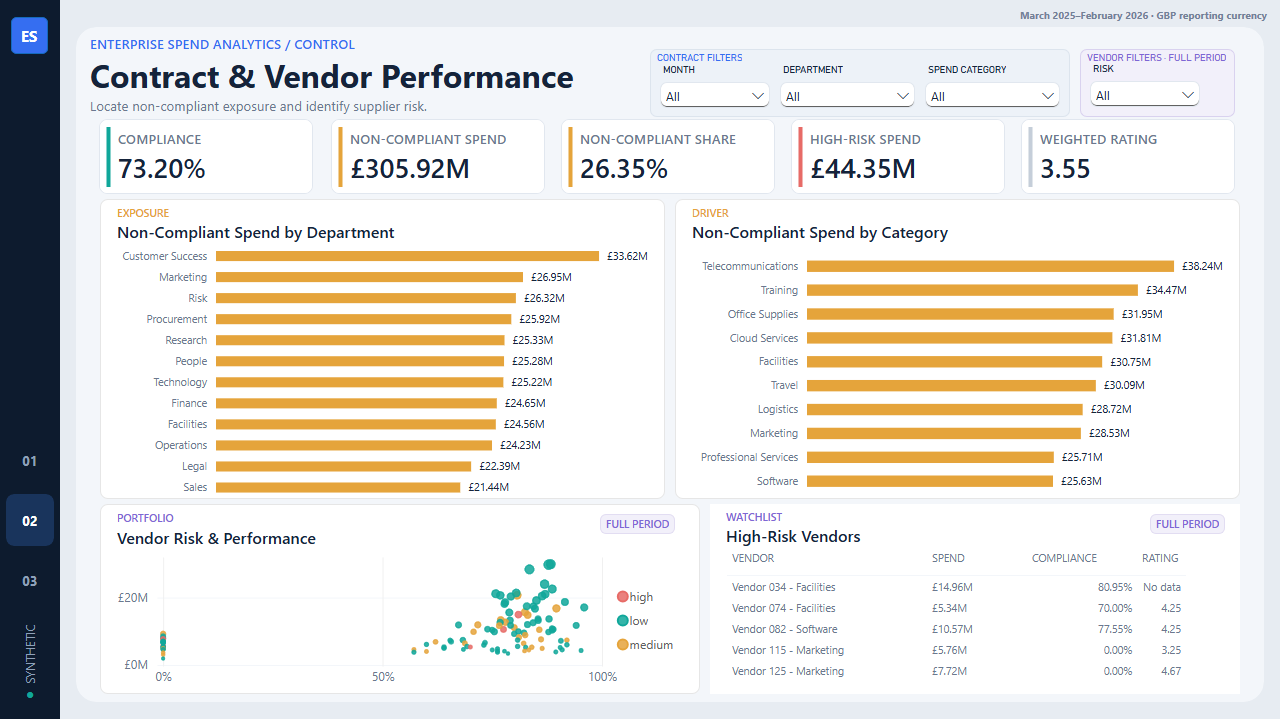

This screenshot's page, from the dashboard's own definition file:
{"tool":"powerbi","page":{"name":"Contract & Vendor Performance","canvas":[1280,720],"ordinal":1},"visuals":[{"type":"shape","box":[0,0,60,720],"z":0},{"type":"slicer","fields":{"Values":["Dim Month.Month"]},"box":[655,64.8,120,50],"z":0,"group":"g8"},{"type":"group","id":"g1","title":"Group 3","box":[93,120,220,75],"z":0,"group":"g9"},{"type":"slicer","fields":{"Values":["Dim Department.department_name"]},"box":[775,64.8,145,50],"z":1000,"group":"g8"},{"type":"group","id":"g2","title":"Group 3","box":[325,120,220,75],"z":1000,"group":"g9"},{"type":"slicer","fields":{"Values":["Dim Month.Month"]},"box":[493,360,120,50],"z":1000},{"type":"shape","box":[11,18,37,37],"z":2000},{"type":"slicer","fields":{"Values":["Contract Compliance.spend_category"]},"box":[920,64.8,145,50],"z":2000,"group":"g8"},{"type":"group","id":"g3","title":"Group 3","box":[555,120,220,75],"z":2000,"group":"g9"},{"type":"textbox","box":[21,27,30,30],"z":3000},{"type":"group","id":"g4","title":"Group 3","box":[785,120,220,75],"z":3000,"group":"g9"},{"type":"group","id":"g5","title":"Group 3","box":[1015,120,220,75],"z":4000,"group":"g9"},{"type":"actionButton","box":[6,435,48,52],"z":4000},{"type":"actionButton","box":[6,495,48,52],"z":5000},{"type":"actionButton","box":[6,555,48,52],"z":6000},{"type":"shape","box":[10,610,40,90],"z":6000,"group":"g6"},{"type":"group","id":"g6","title":"Group 1","box":[10,610,40,95],"z":7000},{"type":"textbox","box":[26,685,15,20],"z":7000,"group":"g6"},{"type":"shape","box":[76,28,1188,675],"z":8000},{"type":"textbox","box":[90,35,500,100],"z":9000},{"type":"textbox","box":[1020,5,250,40],"z":10000},{"type":"shape","box":[650,50,420,68],"z":11000,"group":"g10"},{"type":"cardVisual","fields":{"Data":["_Measures.Contract Compliance %"]},"box":[99.5,120,213.5,75],"z":11000,"group":"g1"},{"type":"cardVisual","fields":{"Data":["_Measures.Non-Compliant Spend GBP"]},"box":[331.5,120,213.5,75],"z":11000,"group":"g2"},{"type":"cardVisual","fields":{"Data":["_Measures.Non-Compliant Spend %"]},"box":[561.5,120,213.5,75],"z":11000,"group":"g3"},{"type":"cardVisual","fields":{"Data":["_Measures.High-Risk Spend GBP"]},"box":[791.5,120,213.5,75],"z":11000,"group":"g4"},{"type":"cardVisual","fields":{"Data":["_Measures.Weighted Overall Rating"]},"box":[1021.5,120,213.5,75],"z":11000,"group":"g5"},{"type":"group","id":"g7","title":"Group 6","box":[100,200,1140,300],"z":11000},{"type":"group","id":"g8","title":"Group 2","box":[655,64.8,409.7,49.7],"z":12000,"group":"g10"},{"type":"group","id":"g9","title":"Group 4","box":[93,120,1142,75],"z":12000},{"type":"group","id":"g10","title":"Group 5","box":[650,50,585,68],"z":13000},{"type":"shape","box":[1080,50,155,68],"z":13000,"group":"g10"},{"type":"slicer","fields":{"Values":["Vendor Performance.risk_tier"]},"box":[1085,64,120,50],"z":14000,"group":"g10"},{"type":"group","id":"g11","title":"Group 4","box":[100,505,1140,190],"z":14000},{"type":"shape","box":[93,128,31.3,60],"z":15000,"group":"g1"},{"type":"shape","box":[325,128,31.3,60],"z":15000,"group":"g2"},{"type":"shape","box":[555,128,31.3,60],"z":15000,"group":"g3"},{"type":"shape","box":[785,128,31.3,60],"z":15000,"group":"g4"},{"type":"shape","box":[1015,128,31.3,60],"z":15000,"group":"g5"},{"type":"shape","box":[600,515,75,20],"z":15000},{"type":"shape","box":[1150,515,75,20],"z":16000},{"type":"scatterChart","title":"PORTFOLIO","fields":{"X":["_Measures.Vendor Contract Compliance %"],"Y":["_Measures.Vendor Spend GBP"],"Category":["Vendor Performance.vendor_name"],"Size":["_Measures.Vendor Expense Count"],"Series":["Vendor Performance.risk_tier"]},"box":[100,505,600,190],"z":17000,"group":"g11"},{"type":"clusteredBarChart","title":"EXPOSURE","fields":{"Category":["Dim Department.department_name"],"Y":["_Measures.Non-Compliant Spend GBP"]},"box":[100,200,565,300],"z":18000,"group":"g7"},{"type":"tableEx","title":"WATCHLIST","fields":{"Values":["Vendor Performance.Vendor Short Name","_Measures.Vendor Spend Display","_Measures.Vendor Contract Compliance %","_Measures.Vendor Rating Display"]},"box":[710,505,530,190],"z":19000,"group":"g11"},{"type":"clusteredBarChart","title":"DRIVER","fields":{"Category":["Contract Compliance.spend_category"],"Y":["_Measures.Non-Compliant Spend GBP"]},"box":[675,200,565,300],"z":20000,"group":"g7"}]}

Visuals, with their boxes on the page's 1280x720 design canvas (x1, y1, x2, y2). These are canvas units, not pixel positions in the 1280x719 screenshot, which may show the page scaled, cropped or inside an application window:
shape: left=0, top=0, right=60, bottom=720
slicer - Dim Month.Month: left=655, top=65, right=775, bottom=115
"Group 3" group: left=93, top=120, right=313, bottom=195
slicer - Dim Department.department_name: left=775, top=65, right=920, bottom=115
"Group 3" group: left=325, top=120, right=545, bottom=195
slicer - Dim Month.Month: left=493, top=360, right=613, bottom=410
shape: left=11, top=18, right=48, bottom=55
slicer - Contract Compliance.spend_category: left=920, top=65, right=1065, bottom=115
"Group 3" group: left=555, top=120, right=775, bottom=195
textbox: left=21, top=27, right=51, bottom=57
"Group 3" group: left=785, top=120, right=1005, bottom=195
"Group 3" group: left=1015, top=120, right=1235, bottom=195
actionButton: left=6, top=435, right=54, bottom=487
actionButton: left=6, top=495, right=54, bottom=547
actionButton: left=6, top=555, right=54, bottom=607
shape: left=10, top=610, right=50, bottom=700
"Group 1" group: left=10, top=610, right=50, bottom=705
textbox: left=26, top=685, right=41, bottom=705
shape: left=76, top=28, right=1264, bottom=703
textbox: left=90, top=35, right=590, bottom=135
textbox: left=1020, top=5, right=1270, bottom=45
shape: left=650, top=50, right=1070, bottom=118
cardVisual - _Measures.Contract Compliance %: left=100, top=120, right=313, bottom=195
cardVisual - _Measures.Non-Compliant Spend GBP: left=332, top=120, right=545, bottom=195
cardVisual - _Measures.Non-Compliant Spend %: left=562, top=120, right=775, bottom=195
cardVisual - _Measures.High-Risk Spend GBP: left=792, top=120, right=1005, bottom=195
cardVisual - _Measures.Weighted Overall Rating: left=1022, top=120, right=1235, bottom=195
"Group 6" group: left=100, top=200, right=1240, bottom=500
"Group 2" group: left=655, top=65, right=1065, bottom=114
"Group 4" group: left=93, top=120, right=1235, bottom=195
"Group 5" group: left=650, top=50, right=1235, bottom=118
shape: left=1080, top=50, right=1235, bottom=118
slicer - Vendor Performance.risk_tier: left=1085, top=64, right=1205, bottom=114
"Group 4" group: left=100, top=505, right=1240, bottom=695
shape: left=93, top=128, right=124, bottom=188
shape: left=325, top=128, right=356, bottom=188
shape: left=555, top=128, right=586, bottom=188
shape: left=785, top=128, right=816, bottom=188
shape: left=1015, top=128, right=1046, bottom=188
shape: left=600, top=515, right=675, bottom=535
shape: left=1150, top=515, right=1225, bottom=535
"PORTFOLIO" scatterChart: left=100, top=505, right=700, bottom=695
"EXPOSURE" clusteredBarChart: left=100, top=200, right=665, bottom=500
"WATCHLIST" tableEx: left=710, top=505, right=1240, bottom=695
"DRIVER" clusteredBarChart: left=675, top=200, right=1240, bottom=500
